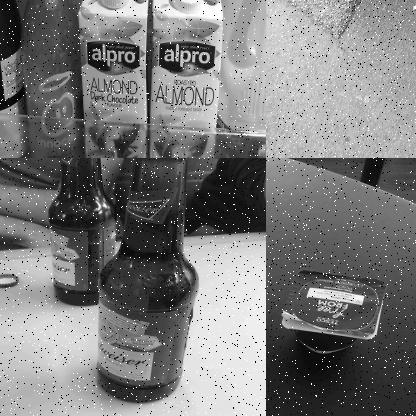cardboard: (154, 0, 225, 157), (80, 0, 150, 157)
glass: (88, 158, 210, 404), (46, 158, 121, 308)
plastic: (276, 260, 385, 364), (20, 0, 83, 157), (223, 0, 265, 157)
